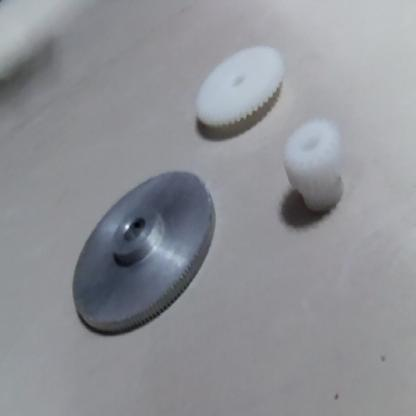FOD: (68, 160, 218, 337), (189, 47, 287, 135), (279, 117, 362, 218)
